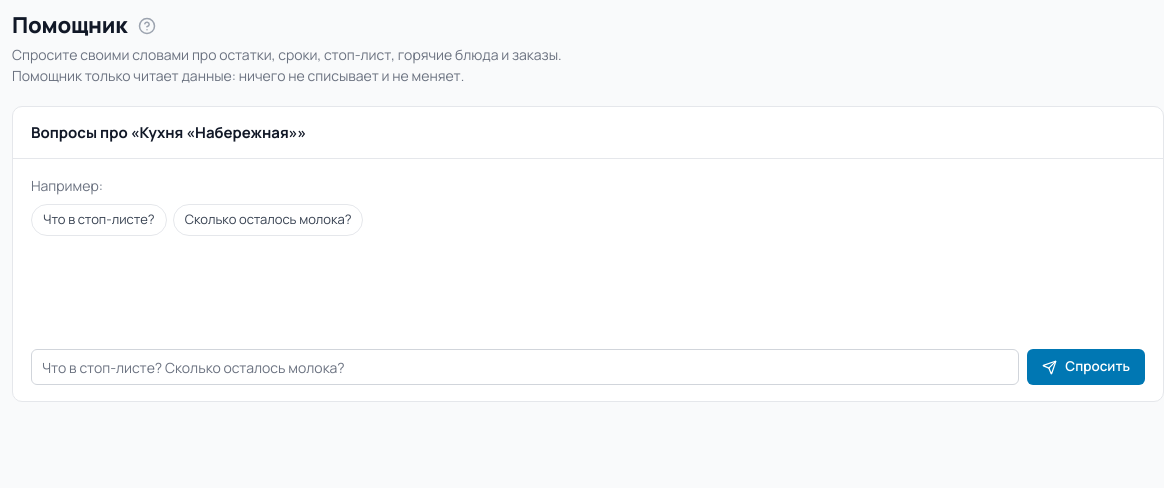
Test: страница помощника › отправляет вопрос с выбранной точкой и показывает ответ со ссылкой и подсказками
Type "  Что в стоп-листе?  " into the field named "Вопрос помощнику" at (525, 367), box [31,349,1019,385]
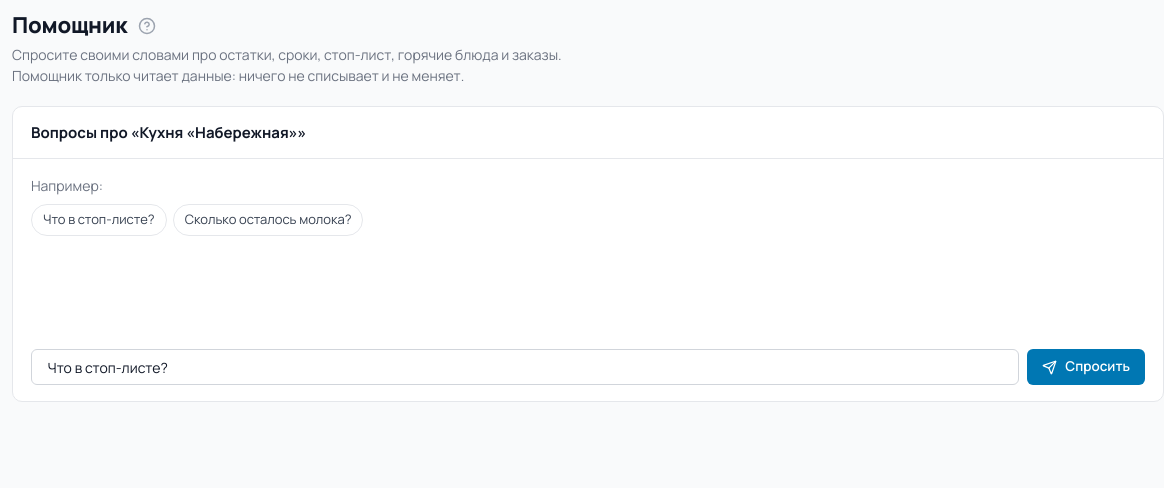
Click the button "Спросить" at (1086, 367), box [1027,349,1145,385]
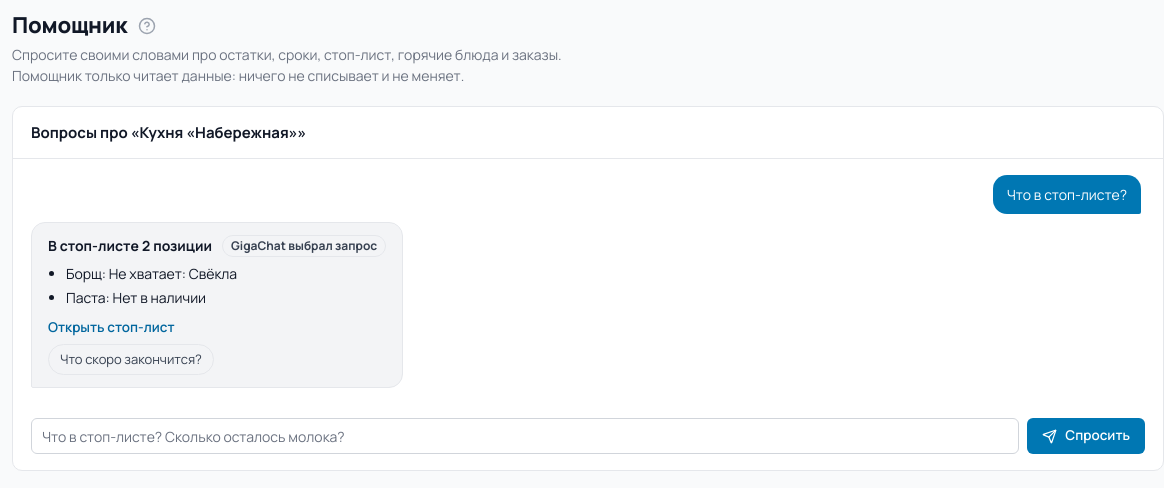
Expected: the text "В стоп-листе 2 позиции" is shown, [48,235,212,256]
Expected: the list item "Борщ: Не хватает: Свёкла" is shown, [66,264,237,283]
Expected: the text "GigaChat выбрал запрос" is shown, [222,235,386,257]
